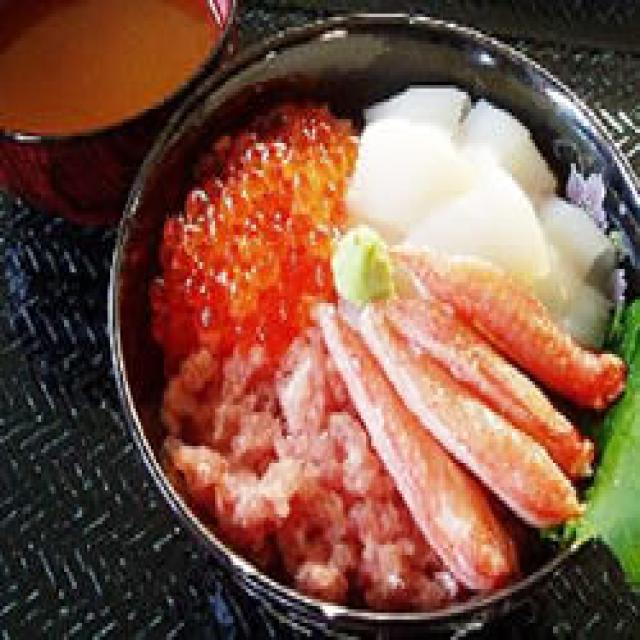刺身生食: (110, 0, 640, 640)
